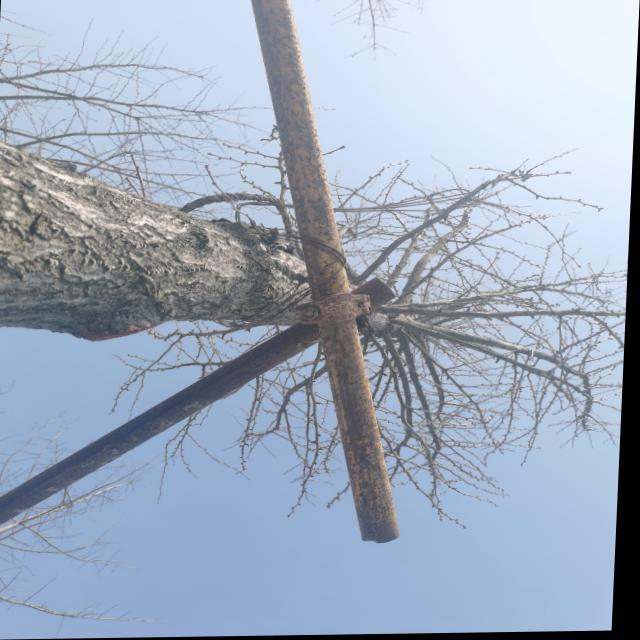Rusty bolt: (303, 308, 322, 323)
